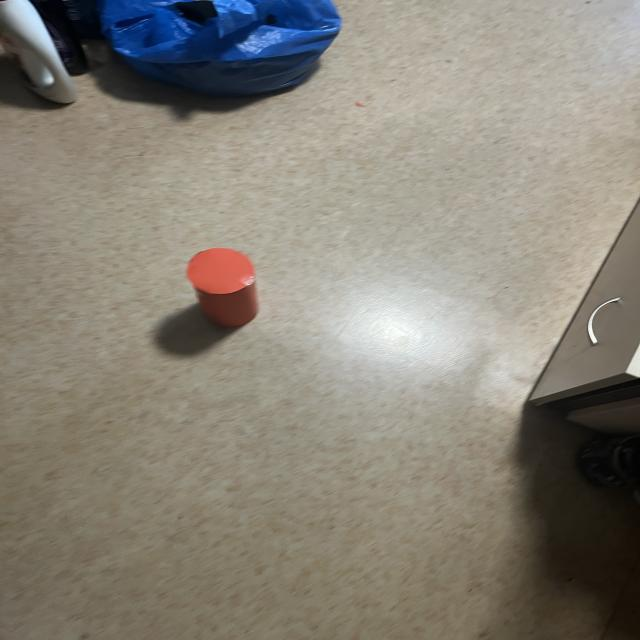przeszkoda: (186, 248, 259, 327)
